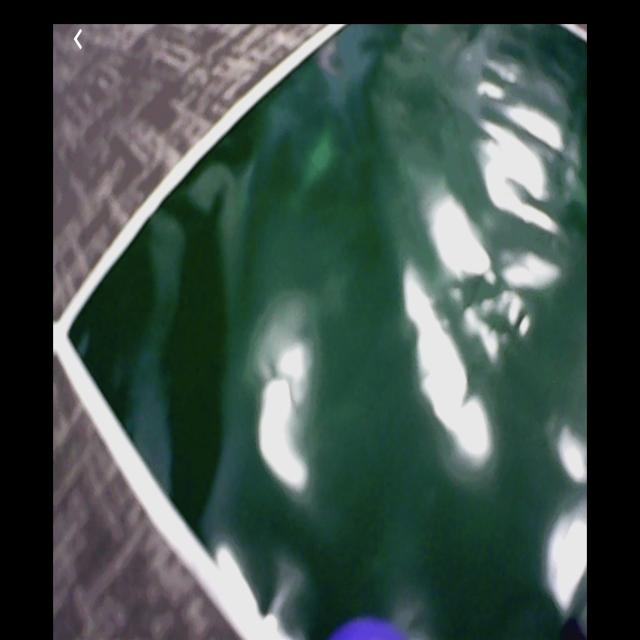ball: (327, 614, 410, 640)
